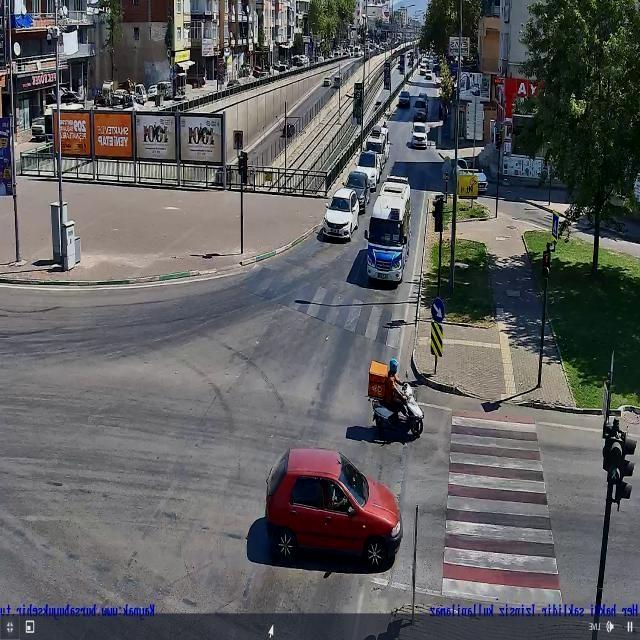Bus: (362, 174, 414, 288)
Car: (259, 445, 407, 574), (320, 188, 360, 240), (344, 163, 368, 209), (355, 147, 380, 188), (410, 119, 429, 149), (398, 85, 411, 109), (412, 104, 430, 117), (416, 87, 429, 104), (322, 76, 331, 89)
Cycle: (363, 348, 423, 438)
Truck: (364, 118, 389, 159)
Van: (334, 73, 342, 87)
